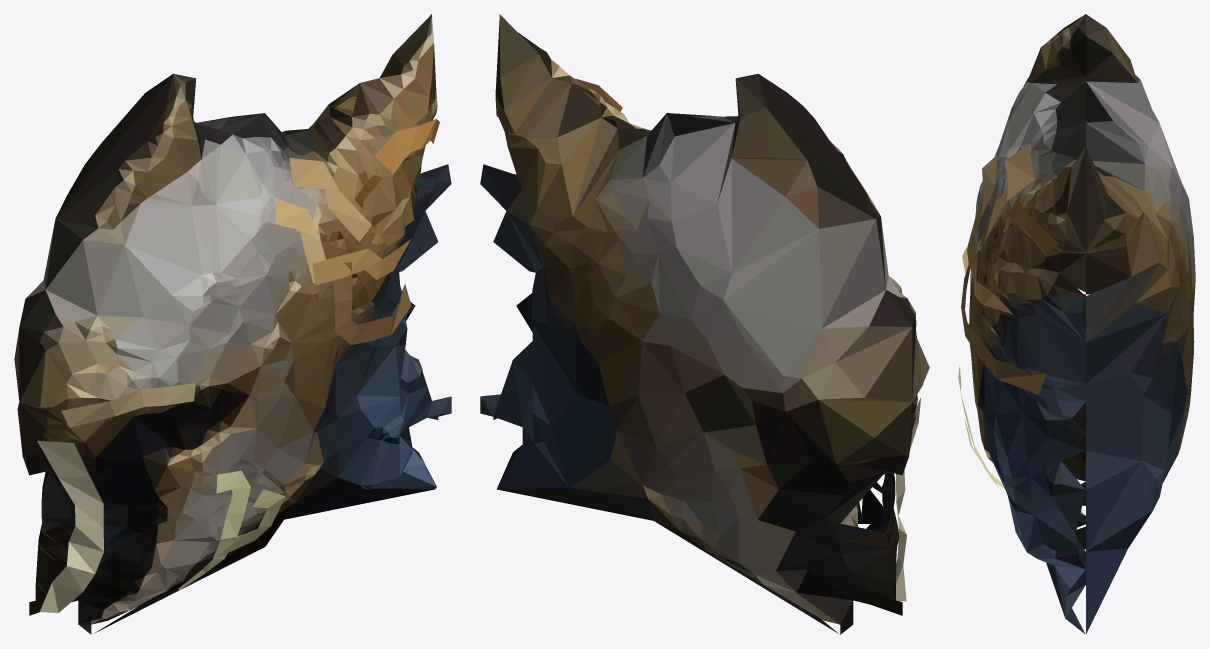
3 views of the same model, side by side, from view 1: azimuth 30°, elevation 25°; view 2: azimuth 150°, elevation 25°; view 3: azimuth 270°, elevation 25° (orthographic). The views are drawn at different scales.
Visible parts, largest first — view 1: object 2, detail; view 2: object 2, detail; view 3: object 2, detail.
Boxes of the visible parts, left/top/right/bottom form: object 2: left=14, top=14, right=451, bottom=634; detail: left=37, top=119, right=439, bottom=612; object 2: left=480, top=14, right=923, bottom=634; detail: left=575, top=79, right=929, bottom=601; object 2: left=969, top=14, right=1195, bottom=634; detail: left=958, top=145, right=1059, bottom=489.
Size of the model in its own units: 132 by 158 by 61.48.
